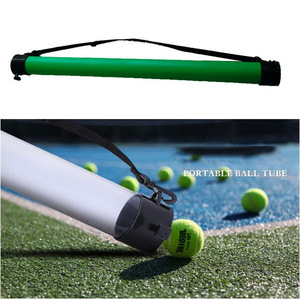tennis_ball: (165, 218, 205, 261), (242, 187, 266, 215), (119, 173, 143, 198), (177, 173, 197, 190), (159, 166, 173, 183), (216, 166, 228, 180), (83, 162, 97, 174)
